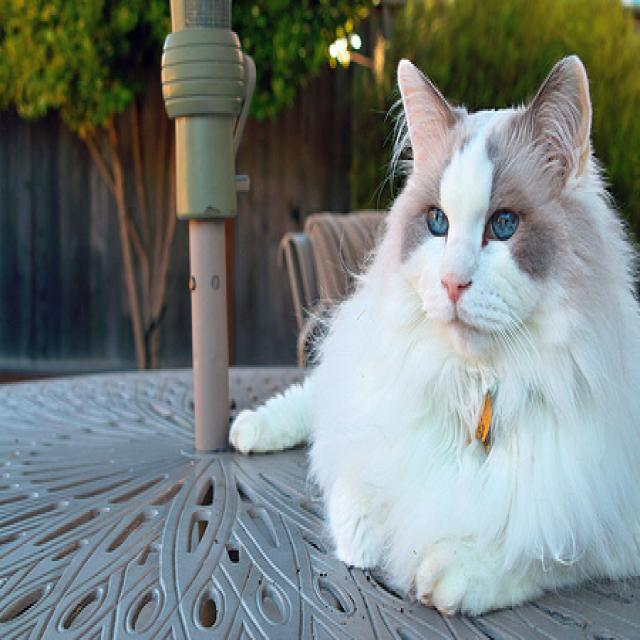Ragdoll: (224, 49, 640, 620)
